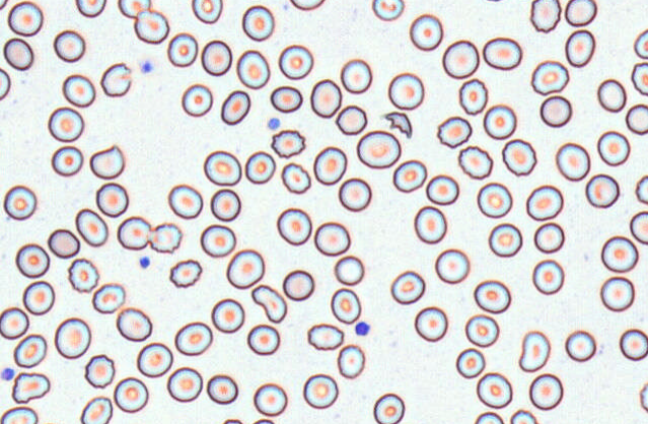PLT: (265, 115, 282, 132), (0, 365, 15, 383), (355, 322, 371, 337), (139, 61, 155, 74), (138, 256, 151, 269)
RBC: (356, 129, 401, 168), (226, 248, 264, 289), (54, 317, 91, 359), (442, 39, 479, 79), (600, 235, 638, 273), (387, 72, 424, 110), (525, 184, 563, 220), (203, 150, 241, 186), (276, 207, 312, 245), (174, 321, 213, 356), (530, 60, 569, 95), (555, 142, 590, 181), (313, 145, 347, 185), (482, 36, 522, 70), (236, 49, 270, 89), (166, 366, 203, 402), (47, 106, 84, 142), (476, 181, 512, 218), (501, 138, 536, 176), (413, 205, 447, 244), (75, 207, 108, 247), (167, 183, 203, 219), (434, 248, 470, 284), (7, 0, 43, 36), (302, 373, 338, 409), (476, 372, 512, 408), (528, 373, 563, 410), (136, 342, 173, 377), (113, 376, 148, 413), (313, 221, 350, 256), (409, 13, 443, 51), (473, 279, 511, 313), (310, 78, 342, 118), (15, 242, 50, 278), (133, 9, 169, 44), (600, 276, 635, 312), (115, 307, 152, 341), (116, 215, 151, 250), (278, 44, 313, 79), (457, 145, 493, 179), (200, 223, 236, 257), (596, 130, 630, 166), (241, 4, 274, 41), (392, 159, 427, 193), (488, 222, 522, 257), (13, 333, 47, 368), (464, 313, 499, 347), (390, 270, 425, 304), (585, 173, 619, 208), (414, 306, 447, 342), (483, 103, 516, 139), (211, 297, 244, 333), (436, 115, 472, 148), (3, 184, 36, 220), (200, 39, 232, 76), (532, 258, 564, 295), (564, 29, 595, 67), (253, 382, 287, 416), (95, 182, 128, 217), (67, 257, 99, 293), (340, 58, 372, 94), (330, 287, 361, 324), (338, 177, 371, 211), (62, 73, 95, 107), (100, 62, 132, 97), (22, 280, 54, 315), (458, 78, 488, 115), (91, 282, 125, 314), (246, 323, 280, 355), (181, 83, 213, 117), (167, 32, 198, 67), (220, 89, 250, 125), (564, 329, 596, 362), (539, 95, 572, 127), (53, 29, 85, 62), (84, 354, 115, 388), (148, 222, 182, 253), (244, 150, 275, 184), (425, 174, 459, 205), (270, 128, 305, 158), (307, 322, 344, 350), (529, 0, 561, 32), (282, 269, 314, 301), (210, 188, 241, 221), (168, 258, 202, 288), (336, 343, 365, 378), (280, 162, 311, 194), (335, 104, 367, 135), (533, 221, 564, 253), (51, 145, 83, 176), (373, 392, 405, 423), (47, 228, 80, 258), (3, 37, 33, 70), (597, 78, 626, 112), (333, 254, 364, 285), (206, 374, 238, 404), (0, 306, 29, 339), (455, 347, 485, 378), (80, 395, 113, 423), (619, 328, 647, 361), (270, 85, 302, 113), (564, 0, 597, 26), (191, 0, 222, 23), (625, 103, 647, 135), (371, 0, 404, 21), (0, 405, 38, 423), (117, 0, 151, 18), (629, 210, 647, 244), (631, 61, 647, 95), (75, 0, 106, 17), (633, 28, 647, 59), (509, 409, 537, 423), (289, 0, 325, 10), (635, 174, 647, 204), (474, 411, 503, 423), (0, 67, 10, 100), (639, 382, 648, 412), (252, 418, 274, 423), (222, 418, 243, 423), (0, 0, 8, 10), (481, 0, 508, 2)
Schistocyte: (251, 284, 290, 325), (517, 329, 553, 373), (8, 372, 49, 403), (89, 145, 125, 179), (382, 111, 416, 140), (61, 62, 61, 63)
